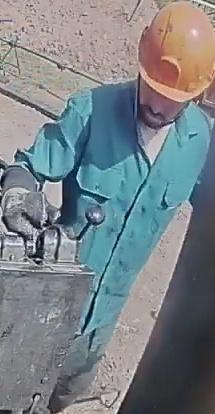gloves: (0, 176, 67, 239)
helmet: (136, 0, 214, 102)
vest: (66, 76, 213, 338)
